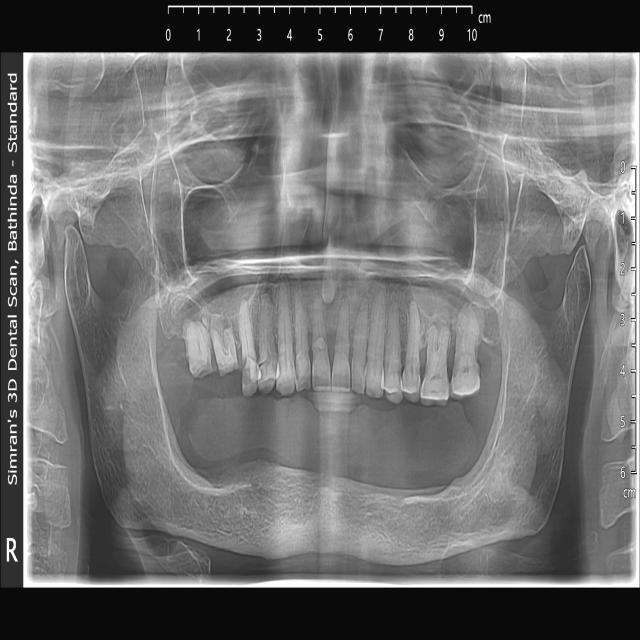Caries: (239, 358, 258, 394)
Missing teeth: (193, 437, 469, 503)
Periapical lesion: (258, 283, 275, 317)
Root Piece: (187, 318, 215, 380), (210, 324, 238, 376)
